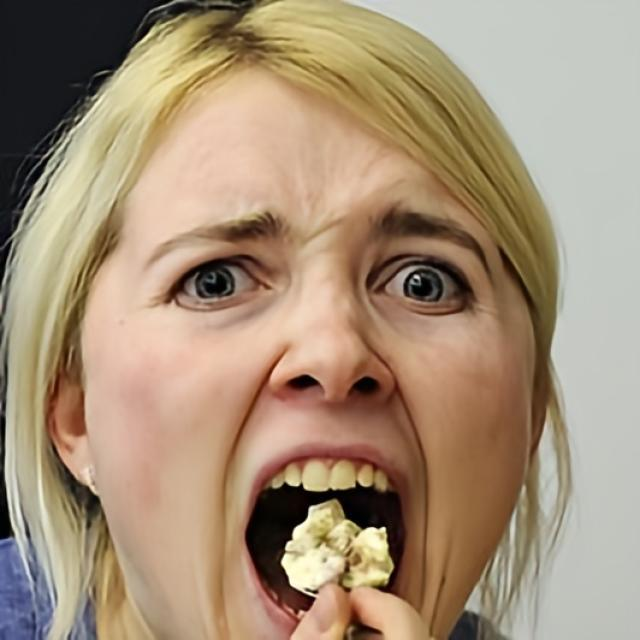fear: (80, 59, 534, 640)
